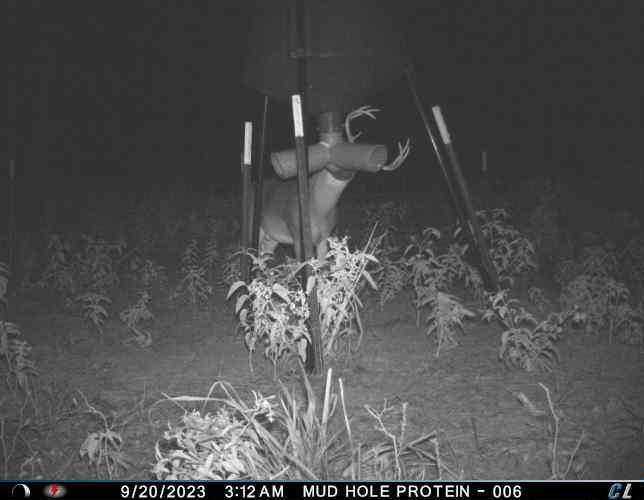Deer: (256, 104, 415, 257)
